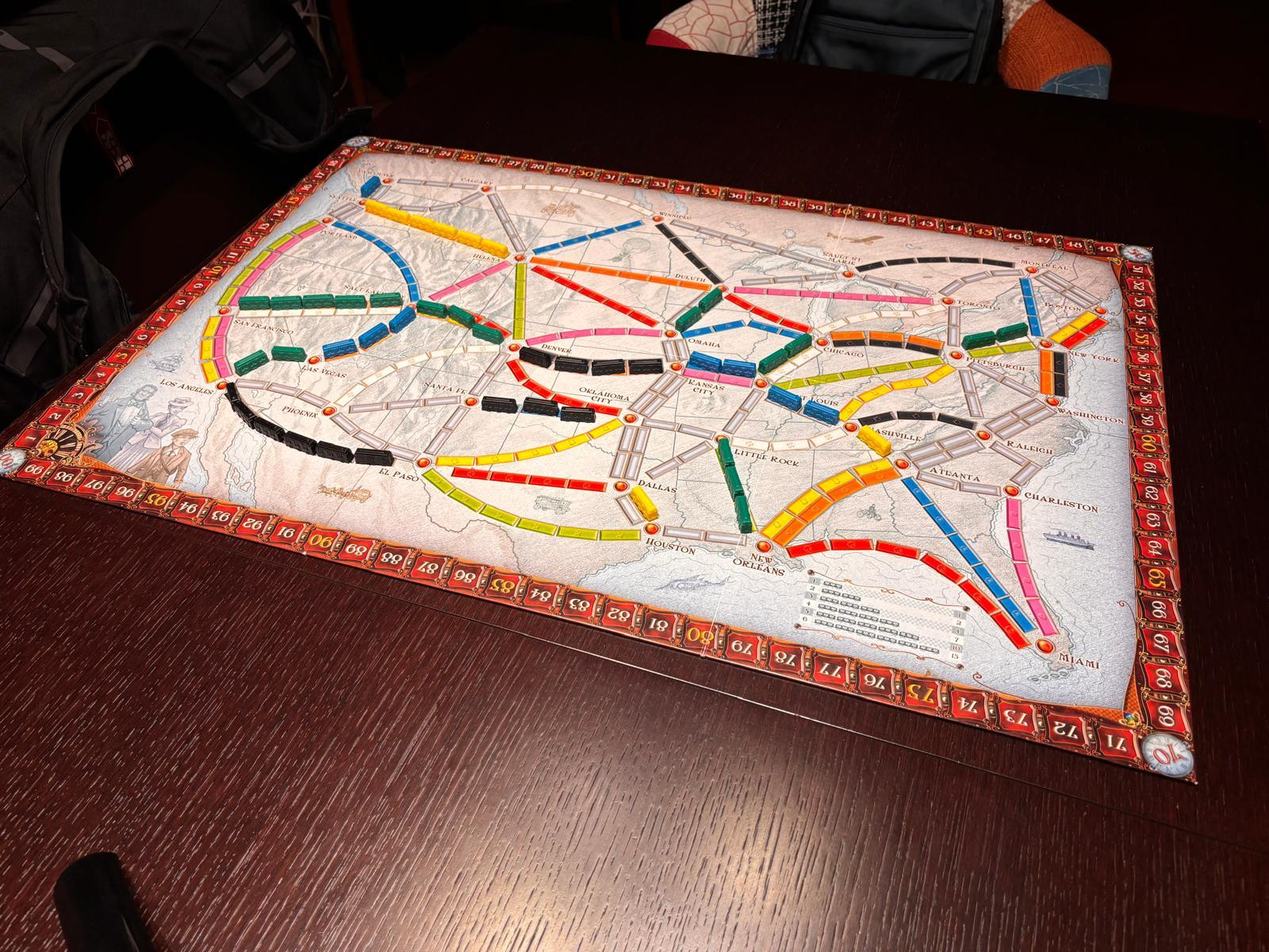black_train: (249, 415, 286, 440), (316, 441, 353, 462), (283, 432, 316, 454), (355, 448, 394, 466), (523, 397, 559, 416), (519, 347, 553, 367), (229, 394, 251, 423), (560, 406, 594, 421), (591, 359, 625, 374), (629, 359, 663, 374), (481, 397, 517, 411), (555, 358, 588, 372), (226, 382, 240, 401)
blue_train: (767, 385, 802, 410), (803, 400, 838, 425), (358, 323, 389, 349), (322, 338, 358, 359), (389, 306, 417, 332), (688, 351, 722, 371), (723, 359, 756, 378), (361, 175, 381, 197)
green_train: (759, 333, 811, 373), (235, 350, 269, 374), (760, 347, 791, 373), (675, 305, 701, 331), (473, 323, 505, 343), (447, 305, 474, 328), (271, 345, 305, 362), (962, 331, 995, 348), (996, 323, 1027, 341), (334, 295, 366, 311), (370, 292, 402, 308), (416, 300, 446, 317), (302, 294, 335, 309), (700, 289, 722, 310), (270, 295, 302, 309), (238, 296, 270, 309)
yellow_train: (859, 426, 891, 455), (631, 486, 658, 520), (475, 240, 508, 257)
